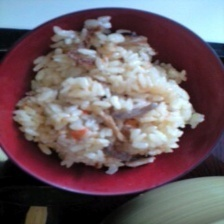rice: (11, 13, 210, 181)
